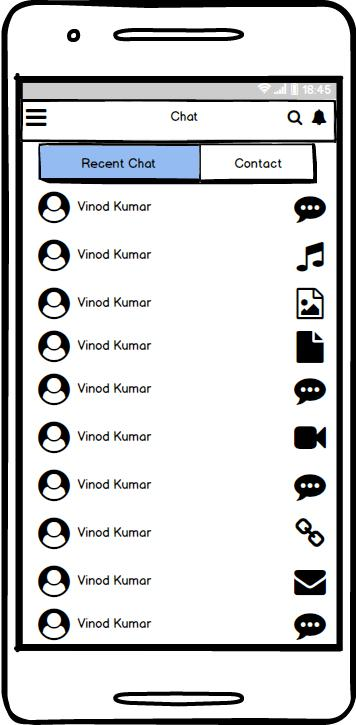Icon: (38, 240, 71, 273), (38, 287, 71, 320), (38, 421, 71, 454), (38, 469, 71, 502), (38, 517, 71, 550), (38, 565, 71, 598), (38, 608, 71, 641), (38, 192, 71, 224), (38, 374, 71, 406), (39, 331, 71, 363), (293, 196, 327, 224), (293, 613, 327, 641), (295, 517, 325, 548), (296, 288, 325, 320), (296, 331, 325, 363), (293, 474, 326, 502), (296, 242, 325, 272), (294, 569, 326, 596), (293, 379, 326, 405), (294, 425, 327, 450), (26, 109, 48, 127), (287, 110, 303, 127), (311, 110, 326, 128)
Text: (75, 199, 153, 213), (75, 247, 153, 261), (74, 295, 152, 309), (78, 430, 153, 443), (78, 339, 152, 352), (77, 382, 153, 394), (78, 478, 153, 490), (78, 574, 151, 586), (78, 526, 152, 537), (78, 617, 152, 628), (171, 111, 199, 122)
TextButton: (38, 144, 201, 181), (202, 143, 316, 183)
Toolbar: (23, 103, 334, 141)
